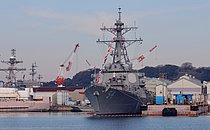MIL_Ship: (81, 7, 145, 116)
